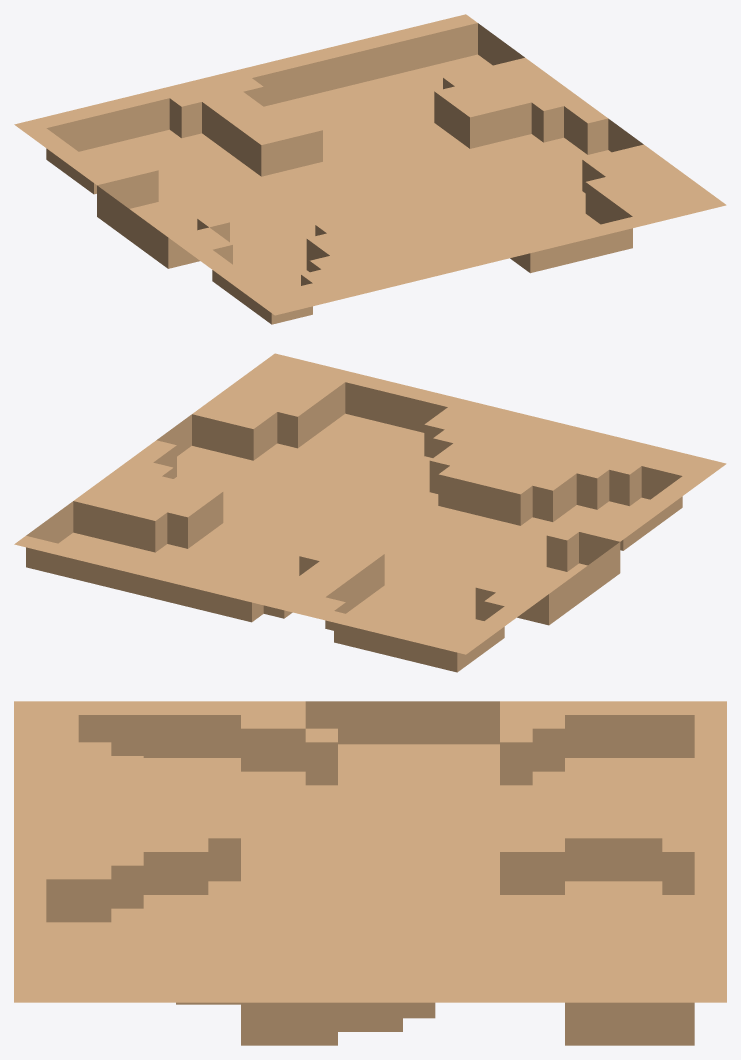
The model's file is stage.fbx.
3 renders of one model, top to bottom at view 1: azimuth 30°, elevation 25°; view 2: azimuth 150°, elevation 25°; view 3: azimuth 270°, elevation 25°, orthographic. The views are drawn at different scales.
Parts seen in each view (by area): view 1: Plane; view 2: Plane; view 3: Plane.
Boxes of the visible parts, bbox=[...] form: Plane: bbox=[14, 14, 726, 324]; Plane: bbox=[14, 353, 726, 672]; Plane: bbox=[14, 701, 726, 1045].
Size of the model in its own units: 3788 by 253 by 3788.
